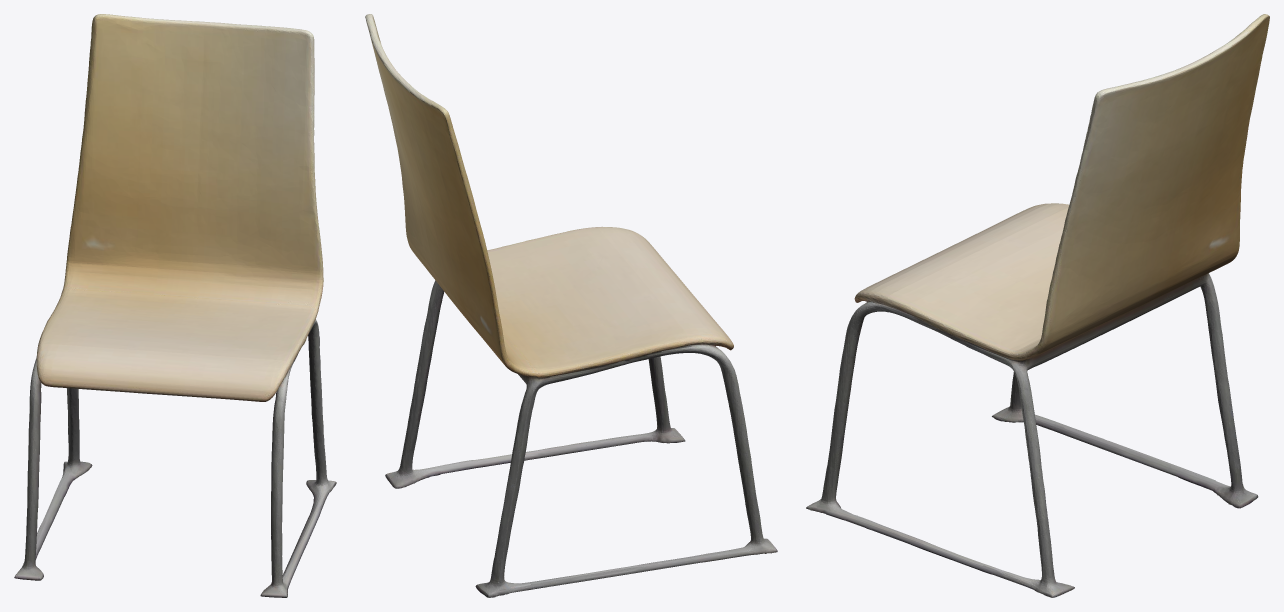
Rendered from light-colored_wooden_chair_at_back_row_left_table_(left)_000.glb.
3 renders of one model, left to right at view 1: azimuth 30°, elevation 25°; view 2: azimuth 150°, elevation 25°; view 3: azimuth 270°, elevation 25°, orthographic. The views are drawn at different scales.
Parts seen in each view (by area): view 1: phase2_final_light-colored_wooden_chair_at_back_row_left_tab; view 2: phase2_final_light-colored_wooden_chair_at_back_row_left_tab; view 3: phase2_final_light-colored_wooden_chair_at_back_row_left_tab.
Boxes of the visible parts, x1,y1,x2,y2 form: phase2_final_light-colored_wooden_chair_at_back_row_left_tab: (14,14,336,597); phase2_final_light-colored_wooden_chair_at_back_row_left_tab: (365,14,777,597); phase2_final_light-colored_wooden_chair_at_back_row_left_tab: (806,14,1269,597).
Size of the model in its own units: 0.3221 by 0.3983 by 0.3308.
1 material, 1 textured.
